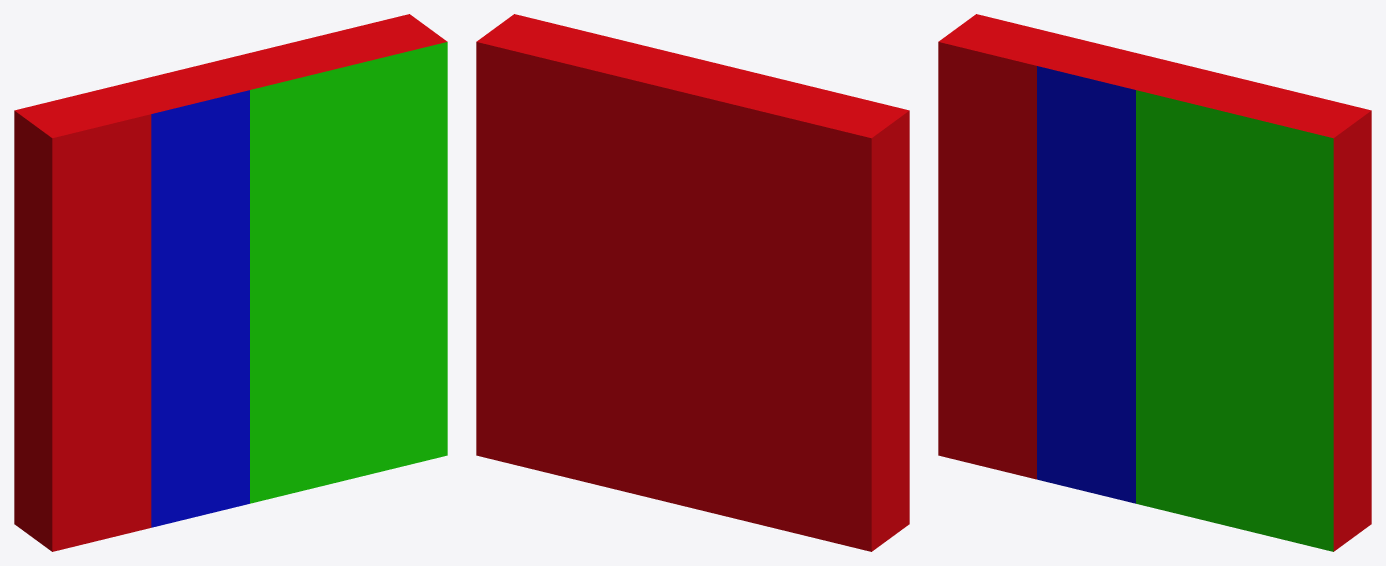
File: Floor Line 1.fbx
3 views of the same model, side by side, from view 1: azimuth 30°, elevation 25°; view 2: azimuth 150°, elevation 25°; view 3: azimuth 330°, elevation 25° (orthographic).
Visible parts, largest first — view 1: Cube; view 2: Cube; view 3: Cube.
Part boxes in pixels (x1,y1,x2,y2): Cube: [14, 14, 447, 551]; Cube: [476, 14, 909, 551]; Cube: [938, 14, 1371, 551].
Size of the model in its own units: 300 by 300 by 50.
